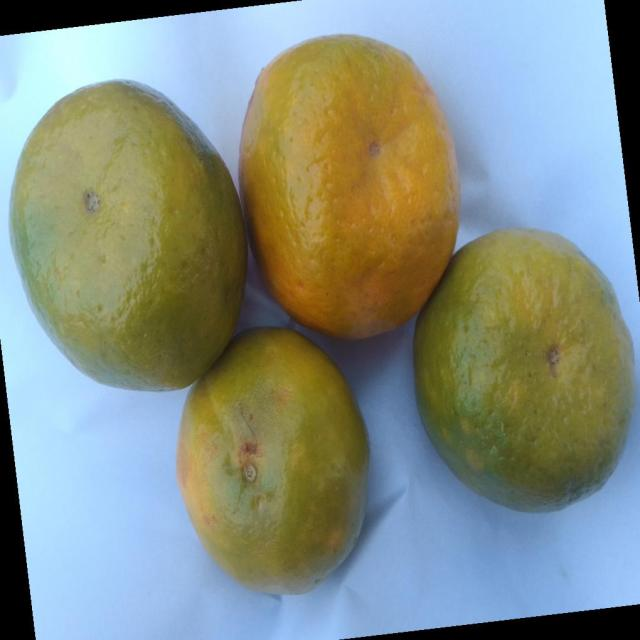fresh orange: (8, 77, 248, 392), (237, 32, 461, 340), (412, 226, 635, 514), (175, 326, 370, 596)
